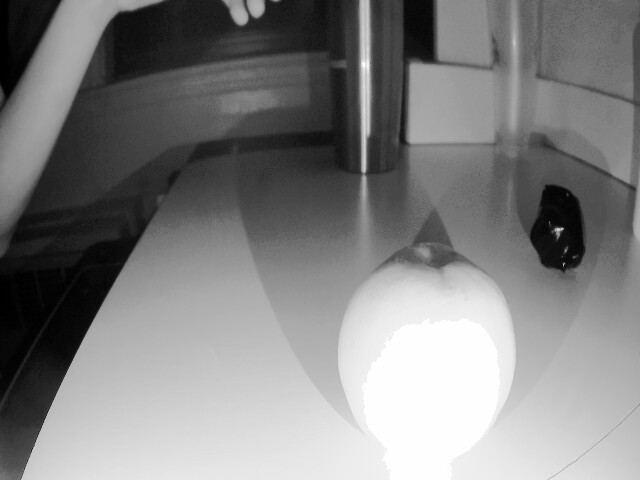silver: (522, 192, 600, 291)
